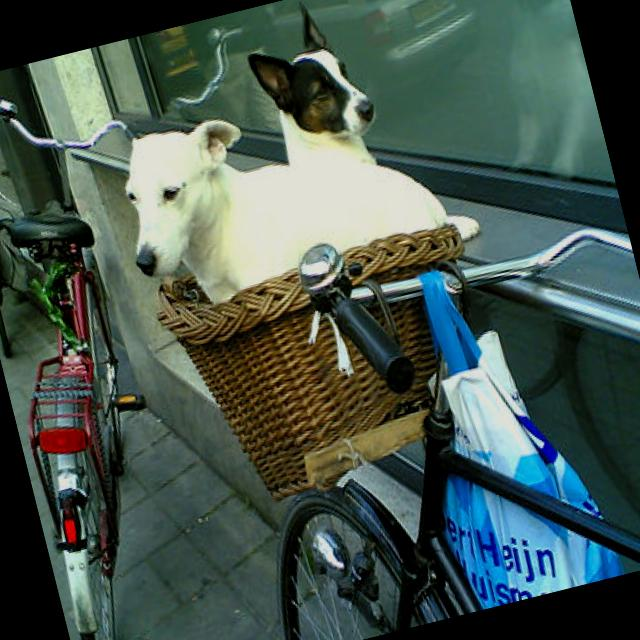Vehicle: (260, 0, 498, 123)
